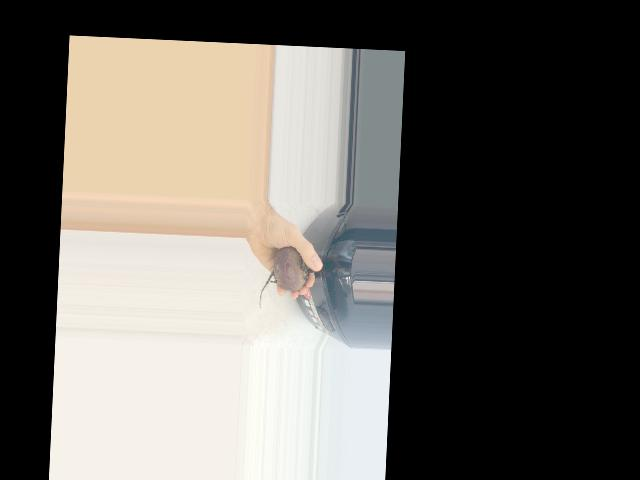beet: (259, 245, 315, 310)
